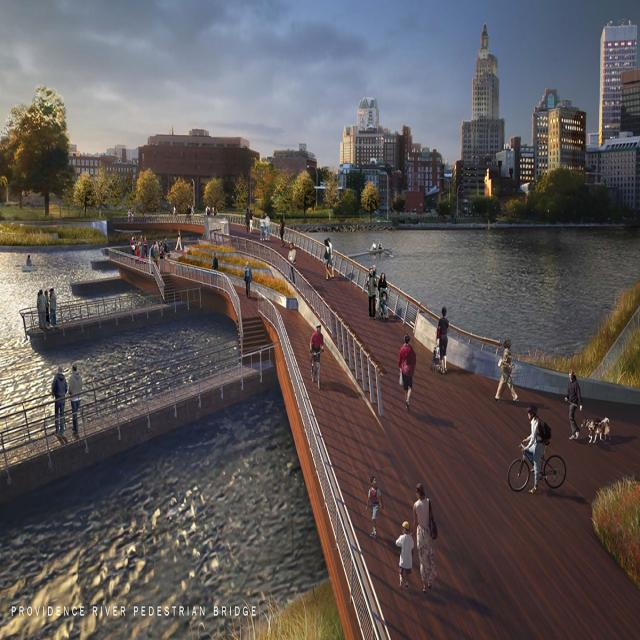body: (412, 481, 439, 595), (521, 403, 552, 495), (493, 336, 522, 405), (397, 332, 417, 413), (564, 368, 583, 440), (50, 364, 68, 439), (395, 520, 414, 590), (365, 475, 384, 540), (129, 233, 170, 263), (435, 305, 450, 375), (68, 362, 82, 436), (309, 321, 325, 373), (364, 265, 378, 321), (377, 270, 388, 320), (322, 238, 333, 282), (36, 289, 48, 329), (243, 259, 253, 300), (287, 242, 296, 286), (48, 287, 57, 329), (326, 237, 334, 280), (210, 251, 218, 288), (264, 212, 271, 242), (175, 228, 183, 252), (279, 216, 285, 247), (259, 214, 265, 241), (248, 208, 254, 234), (172, 202, 178, 224), (245, 208, 250, 234), (190, 204, 196, 223), (186, 202, 192, 221), (369, 239, 376, 252), (213, 204, 220, 217), (129, 206, 134, 223), (126, 208, 132, 222), (205, 203, 211, 216), (26, 254, 32, 266), (377, 240, 382, 251)
